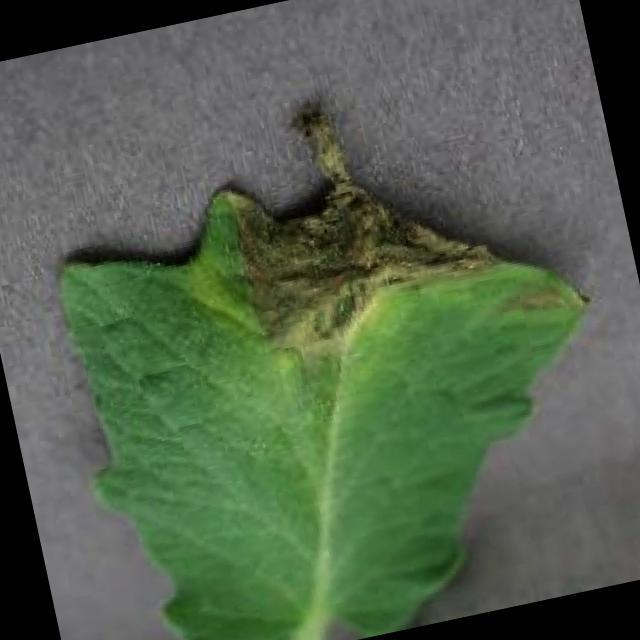Tomato late blight leaf: (24, 54, 640, 640)
